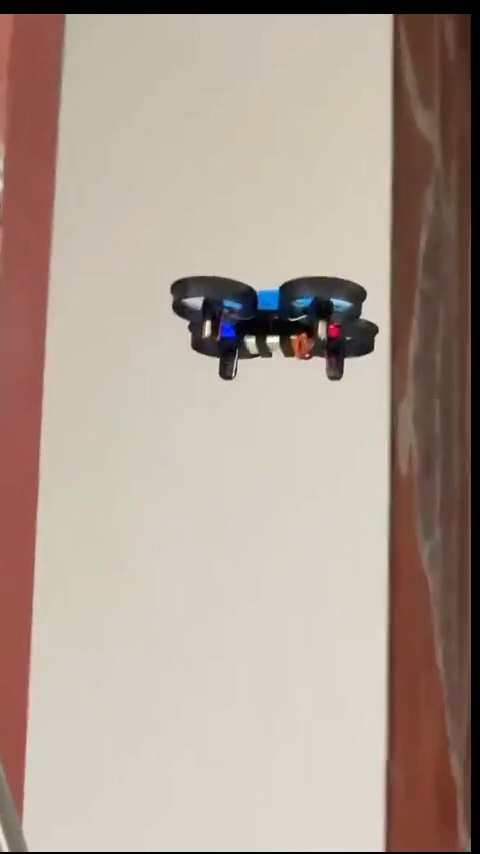drone: (168, 276, 381, 376)
